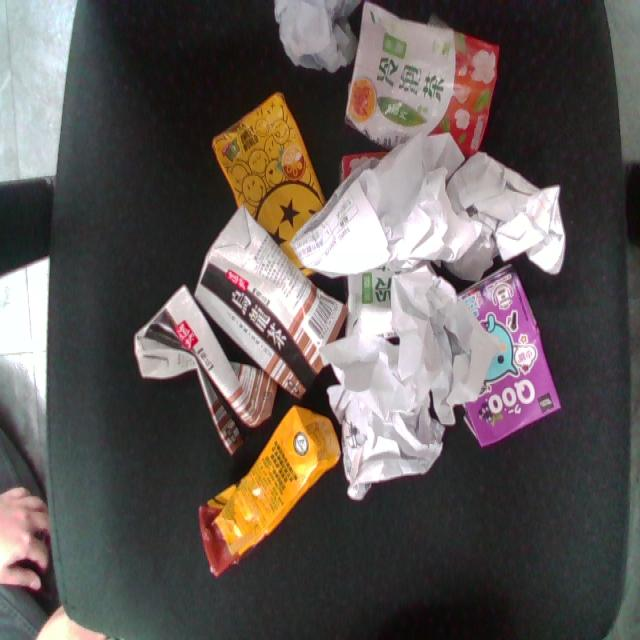juicebox: (153, 194, 383, 418), (160, 388, 375, 596), (190, 79, 375, 309), (108, 269, 307, 478), (410, 252, 585, 469), (327, 0, 522, 178)
paper: (257, 118, 513, 298), (365, 232, 533, 443), (306, 286, 453, 512), (438, 135, 601, 287)
